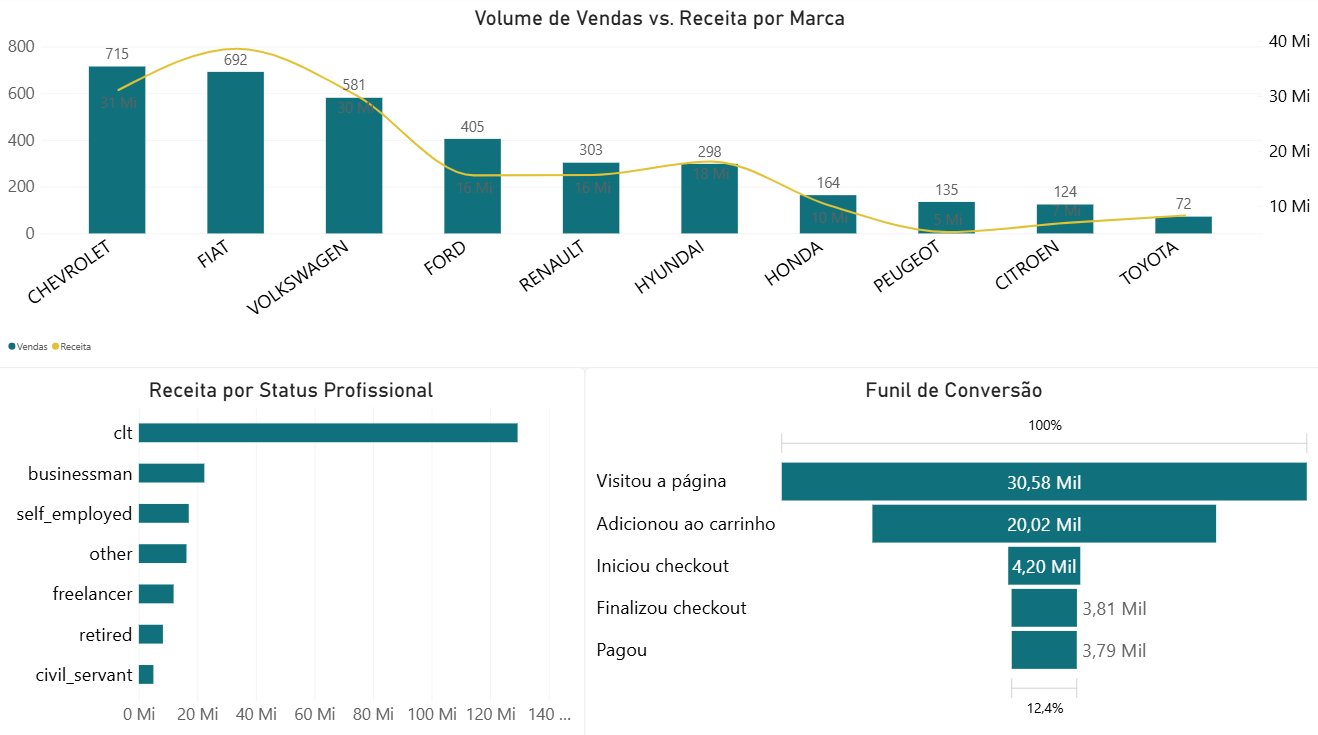

The dashboard page shown, as its layout file describes it:
{"tool":"powerbi","page":{"name":"Página 1","canvas":[1920,1080],"ordinal":0},"visuals":[{"type":"funnel","title":"Funil de Conversão","fields":{"Category":["funil_conversao.etapa"],"Y":["Sum(funil_conversao.quantidade)"]},"box":[852.5,540,1067.5,540],"z":0},{"type":"barChart","title":"Receita por Status Profissional","fields":{"Category":["vendas_por_status_profissional.status_profissional"],"Y":["Sum(vendas_por_status_profissional.receita (R$))"]},"box":[0,540,852.5,540],"z":1000},{"type":"lineClusteredColumnComboChart","title":"Volume de Vendas vs. Receita por Marca","fields":{"Category":["volume_vendas_VS_receita_marcas.marca"],"Y":["Sum(volume_vendas_VS_receita_marcas.vendas)"],"Y2":["Sum(volume_vendas_VS_receita_marcas.receita (R$))"]},"box":[0,0,1920,540],"z":2000}]}

Visuals, with their boxes in screenshot pixels (x1, y1, x2, y2), scaled from the page's 1920x1080 canvas onto the 1318x735 screenshot:
"Funil de Conversão" funnel: 585,368,1317,734
"Receita por Status Profissional" barChart: 0,368,585,734
"Volume de Vendas vs. Receita por Marca" lineClusteredColumnComboChart: 0,0,1317,368
